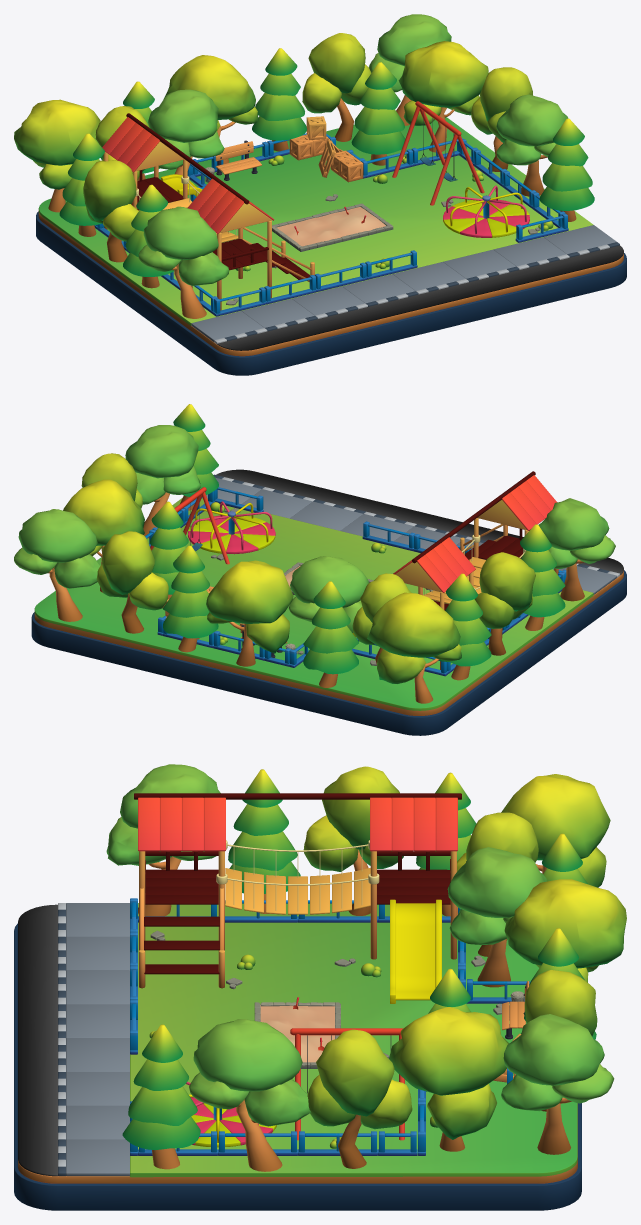
File: playground2.fbx
3 renders of one model, top to bottom at view 1: azimuth 30°, elevation 25°; view 2: azimuth 150°, elevation 25°; view 3: azimuth 270°, elevation 25°, orthographic. The views are drawn at different scales.
Visible parts, largest first — view 1: Plane.001, Cube, Plane.002, Sphere.015, Sphere.005, Cube.025, Sphere.009, Sphere.013, Sphere.012, Sphere.003, Sphere.006, Sphere.016 (+27 smaller); view 2: Plane.001, Sphere.009, Sphere.016, Sphere.017, Cube.025, Cube, Sphere.012, Sphere.013, Sphere.015, Plane.002, Sphere.006, Sphere.014 (+19 smaller); view 3: Plane.001, Cube, Cube.025, Sphere.005, Sphere.012, Plane.002, Sphere.017, Sphere.011, Cube.028, Sphere.016, Sphere.003, Sphere.004 (+24 smaller).
Boxes of the visible parts, bbox=[...] form: Plane.001: bbox=[36, 117, 626, 375]; Cube: bbox=[191, 225, 616, 341]; Plane.002: bbox=[217, 245, 623, 350]; Sphere.015: bbox=[138, 206, 229, 318]; Sphere.005: bbox=[398, 41, 488, 152]; Cube.025: bbox=[102, 113, 274, 233]; Sphere.009: bbox=[14, 99, 100, 212]; Sphere.013: bbox=[302, 33, 371, 141]; Sphere.012: bbox=[496, 94, 568, 196]; Sphere.003: bbox=[148, 89, 224, 201]; Sphere.006: bbox=[83, 160, 138, 262]; Sphere.016: bbox=[163, 55, 258, 164]; Plane.001: bbox=[31, 498, 626, 735]; Sphere.009: bbox=[367, 592, 461, 703]; Sphere.016: bbox=[206, 560, 293, 666]; Sphere.017: bbox=[14, 509, 100, 621]; Cube.025: bbox=[393, 471, 557, 592]; Cube: bbox=[206, 477, 616, 594]; Sphere.012: bbox=[125, 425, 200, 538]; Sphere.013: bbox=[96, 531, 168, 633]; Sphere.015: bbox=[538, 498, 615, 601]; Plane.002: bbox=[216, 469, 623, 575]; Sphere.006: bbox=[474, 552, 535, 655]; Sphere.014: bbox=[303, 581, 358, 687]; Plane.001: bbox=[14, 903, 581, 1210]; Cube: bbox=[66, 903, 129, 1176]; Cube.025: bbox=[134, 793, 461, 851]; Sphere.005: bbox=[389, 1007, 508, 1151]; Sphere.012: bbox=[189, 1019, 311, 1171]; Plane.002: bbox=[18, 904, 57, 1176]; Sphere.017: bbox=[501, 1014, 614, 1154]; Sphere.011: bbox=[307, 1029, 412, 1168]; Cube.028: bbox=[139, 851, 456, 959]; Sphere.016: bbox=[504, 879, 626, 982]; Sphere.003: bbox=[447, 847, 546, 987]; Sphere.004: bbox=[122, 1024, 200, 1169].
Size of what is drawn, in the model's own units: 1802 by 508 by 1533.
1 material, 1 textured.
